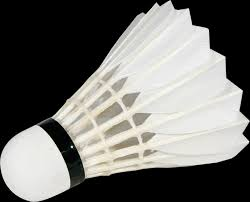shuttle: (5, 1, 247, 193)
